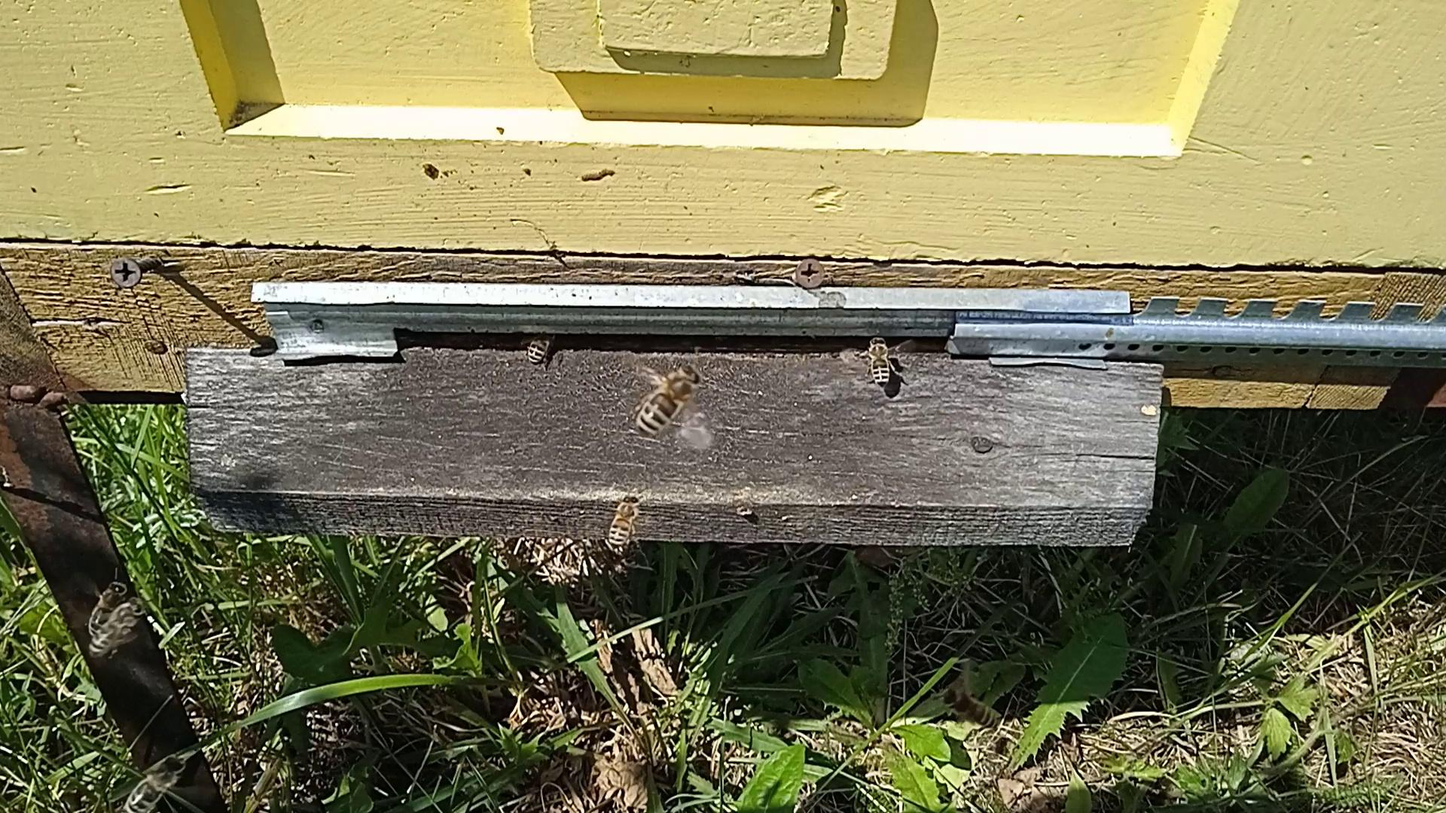worker-bee: (633, 365, 698, 436), (124, 757, 188, 813), (87, 596, 144, 657), (87, 580, 128, 636), (607, 494, 642, 549), (944, 693, 997, 728), (865, 335, 893, 387), (522, 332, 557, 363)
